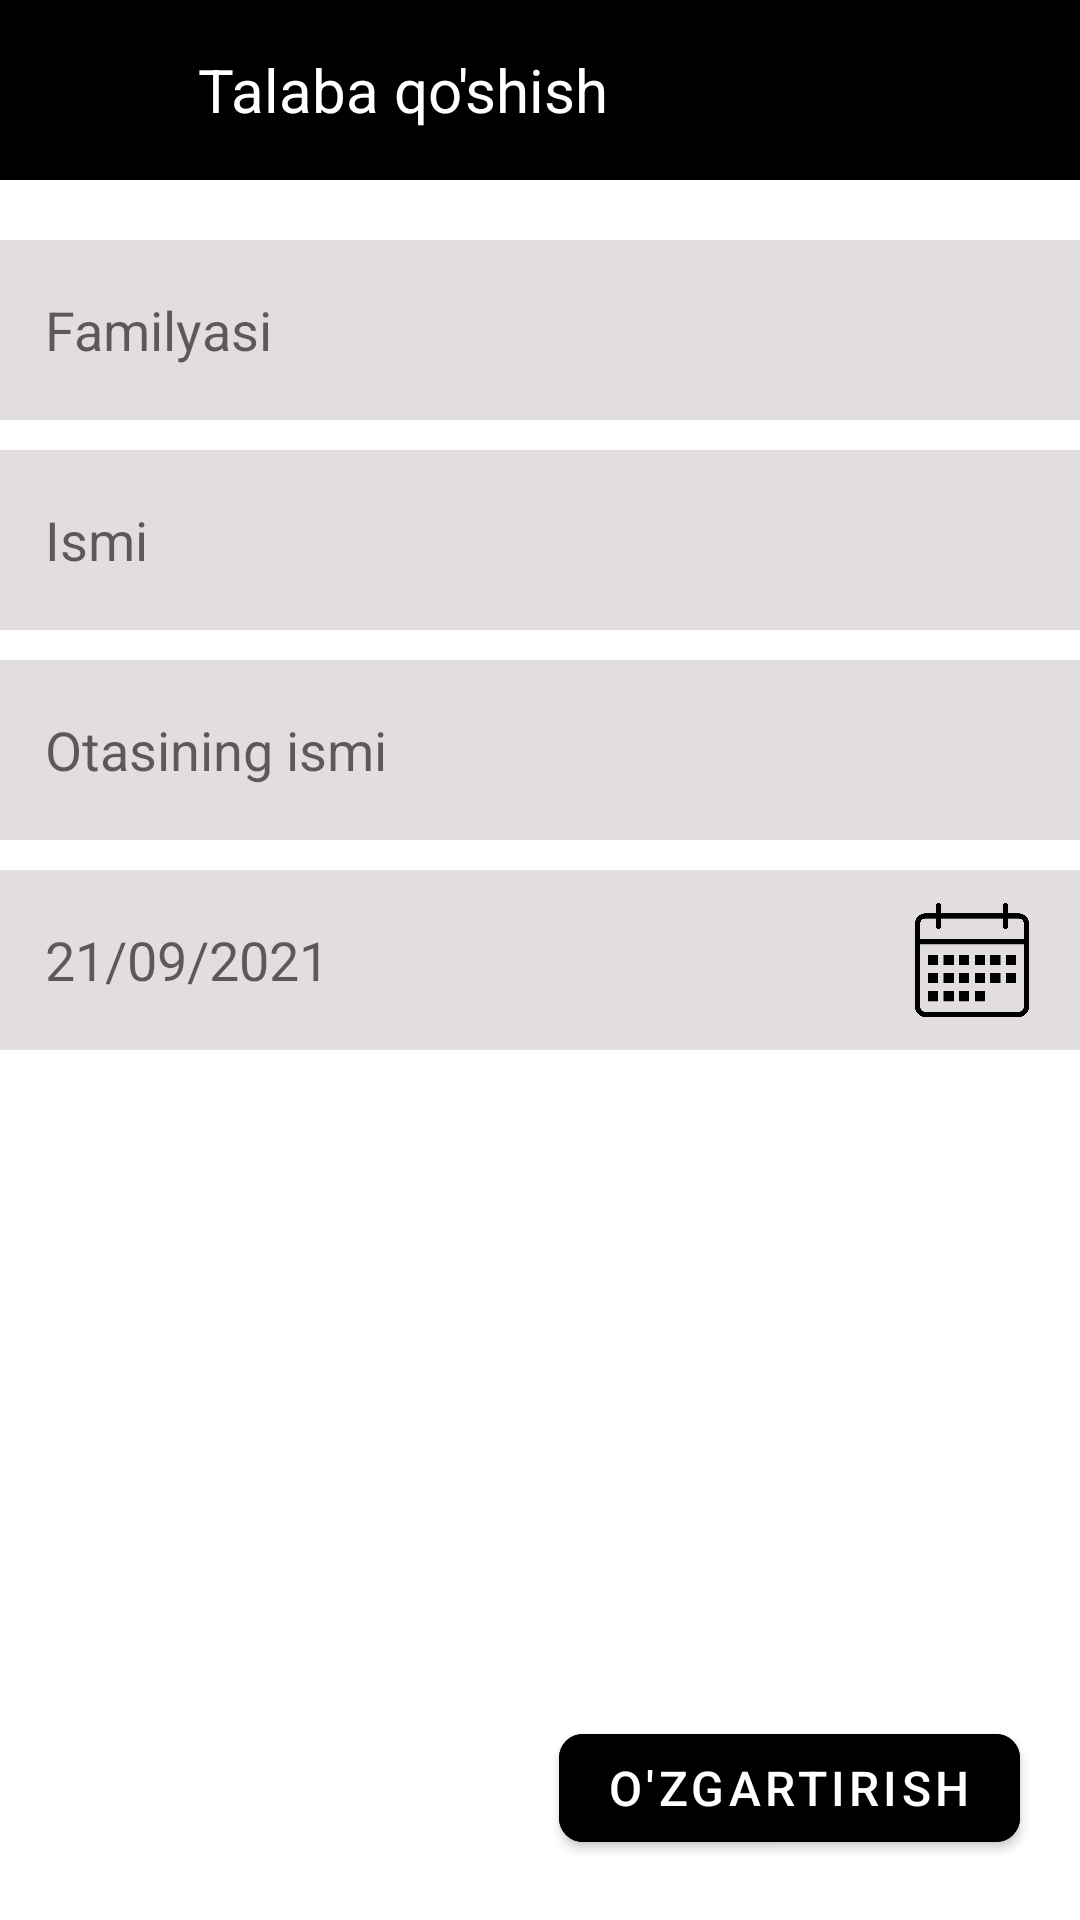

Point at icon controls on the screen. Image size 1080 × 1920, points as (x,y).
calendar: (972,960)
